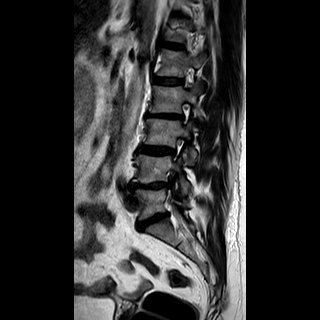LFS0: (175, 95, 197, 132), (166, 133, 189, 167), (177, 60, 200, 93)
